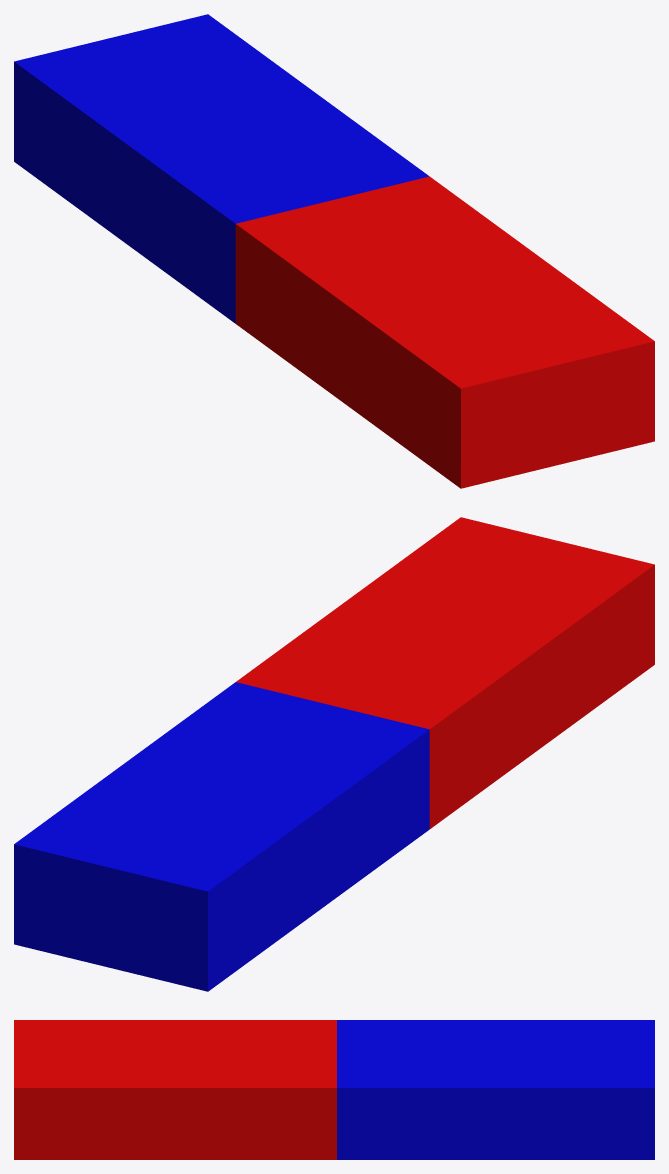
The model's file is bar magnet.fbx.
The picture shows the model from 3 angles, top to bottom: view 1: azimuth 30°, elevation 25°; view 2: azimuth 150°, elevation 25°; view 3: azimuth 270°, elevation 25°; orthographic projection. The views are drawn at different scales.
Visible parts, largest first — view 1: bar_magnet_3; view 2: bar_magnet_3; view 3: bar_magnet_3.
Part boxes in pixels (box(x1,y1,x2,y2)): bar_magnet_3: box(14, 14, 654, 488); bar_magnet_3: box(14, 517, 654, 991); bar_magnet_3: box(14, 1020, 654, 1159).
Bounding box in the file's own units: 2.08 × 1.02 × 8.29.
